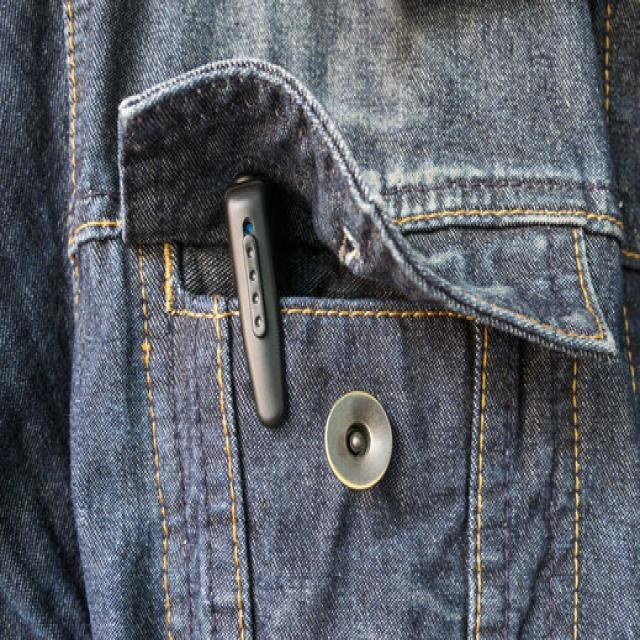hidden camera: (349, 421, 369, 457), (239, 215, 257, 237)
